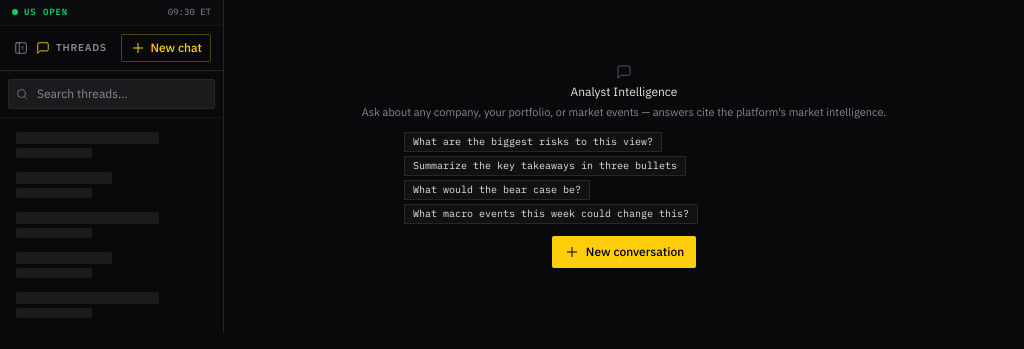
Test: Context-aware starters › falls back to generic starters when no entity_id param
Click the button with aria-label "start new chat": {"x": 166, "y": 48} [121,34,211,62]
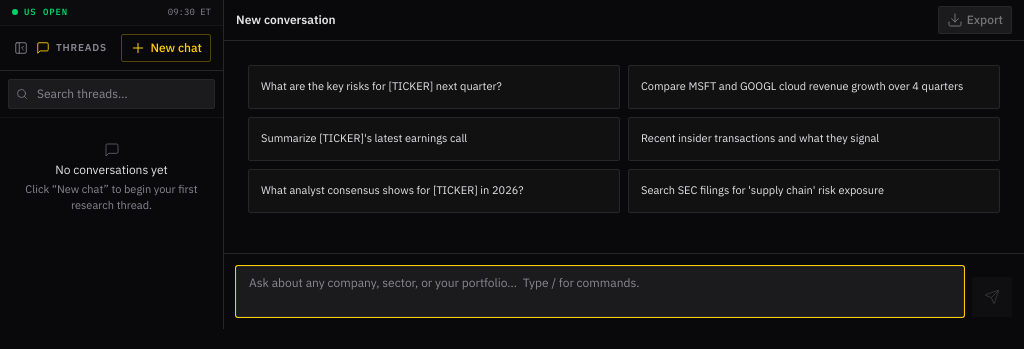
Check: the button "Compare MSFT and GOOGL cloud revenue growth over 4 quarters" is shown, box [628,65,1000,109]
